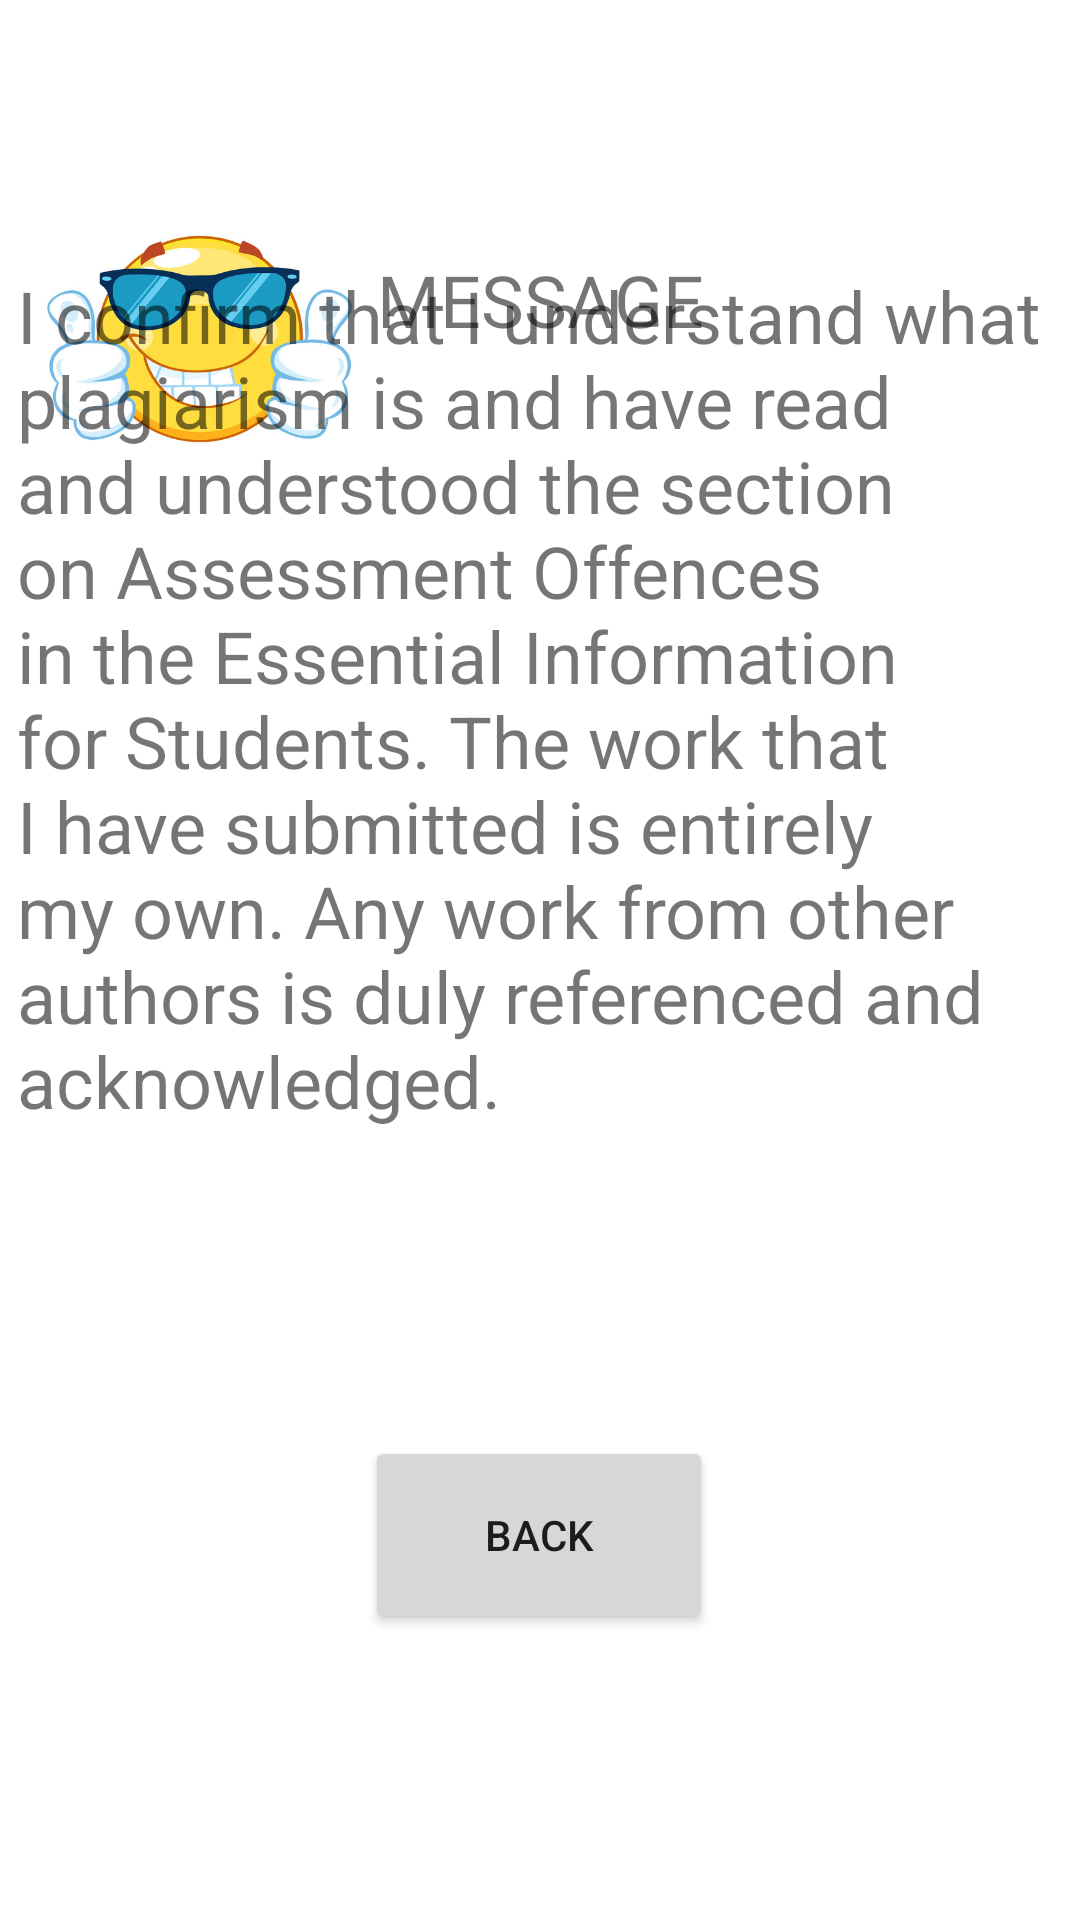

Where to tap for icons on this 1080px×1920px app screen, as [x,y]:
good: [199,374]
